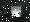person: (12, 4, 22, 17)
